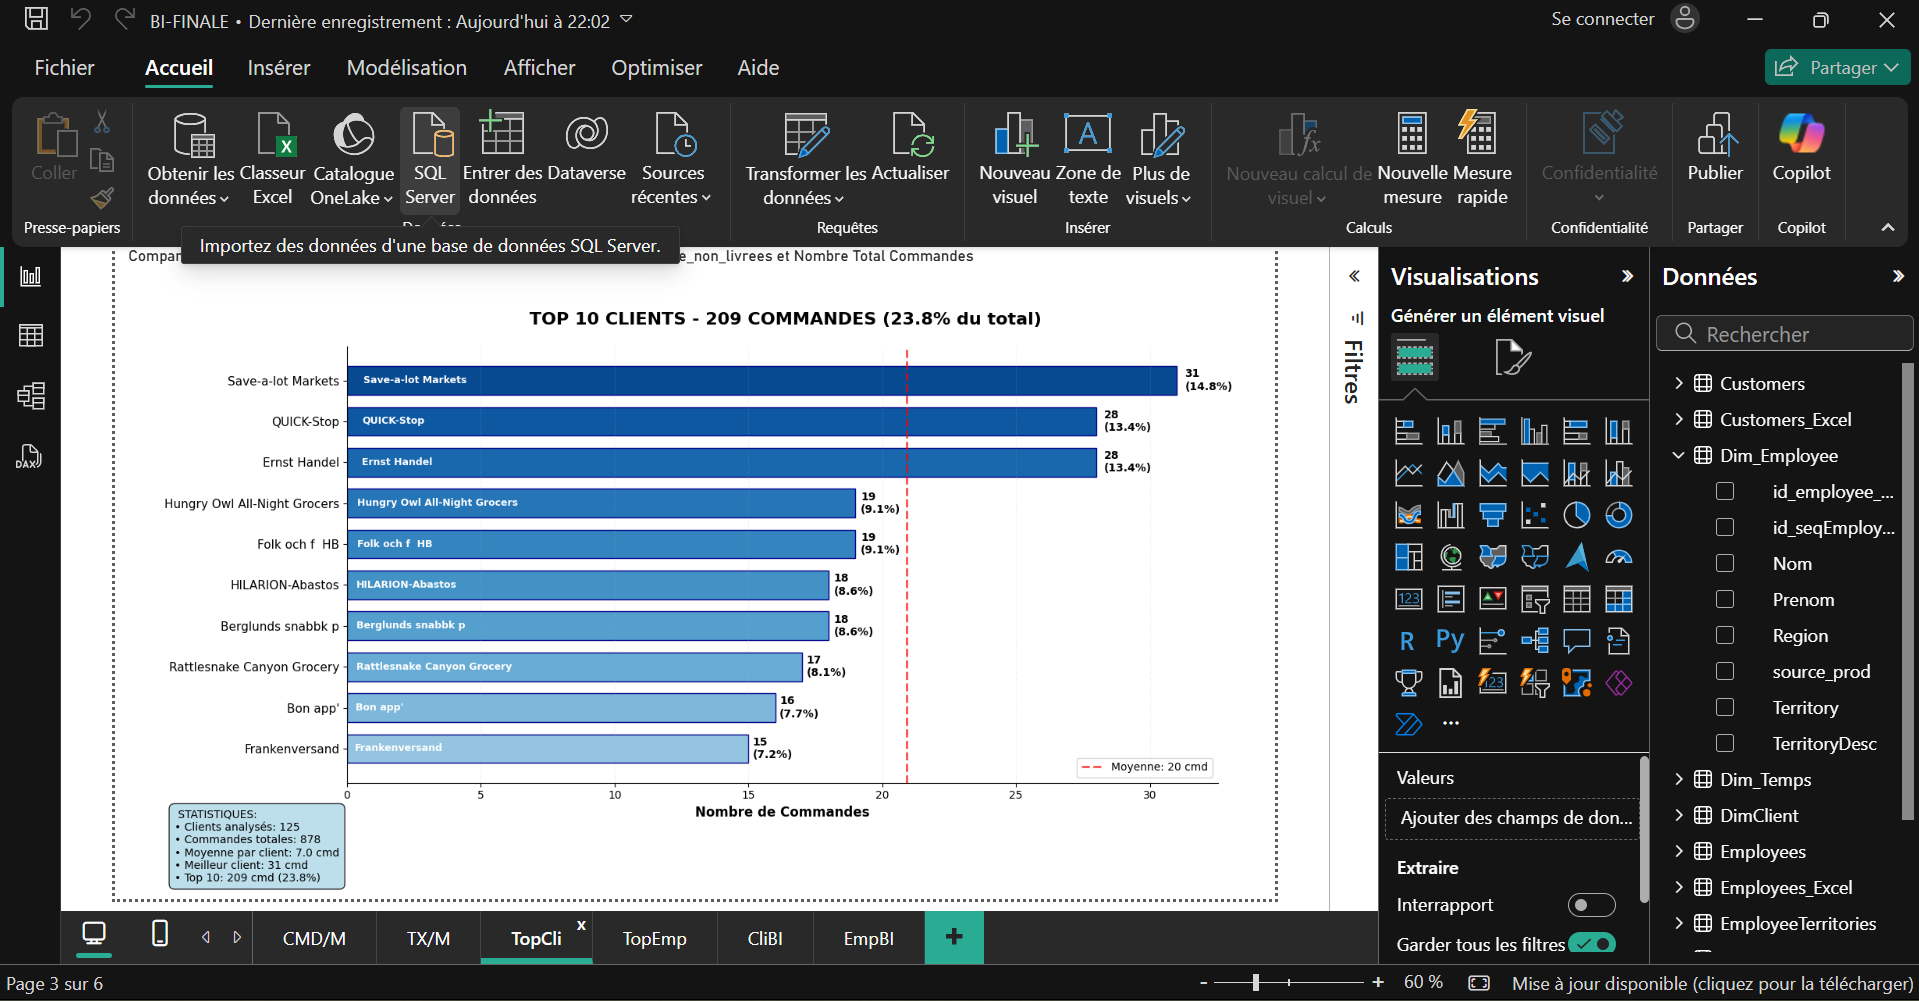

The dashboard page shown, as its layout file describes it:
{"tool":"powerbi","page":{"name":"TopCli","canvas":[1280,720],"ordinal":2},"visuals":[{"type":"pythonVisual","fields":{"Values":["DimClient.CompanyName","DimClient.id_seqClient","TF_Commande.id_seqClient","TF_Commande.nbr_commande_livrees","TF_Commande.nbr_commande_non_livrees","TF_Commande.Nombre Total Commandes"]},"box":[9.4,0,1270,719.2],"z":0}]}

Visuals, with their boxes on the page's 1280x720 design canvas (x1, y1, x2, y2). These are canvas units, not pixel positions in the 1919x1001 screenshot, which may show the page scaled, cropped or inside an application window:
pythonVisual - DimClient.CompanyName x DimClient.id_seqClient: 9/0/1279/719
